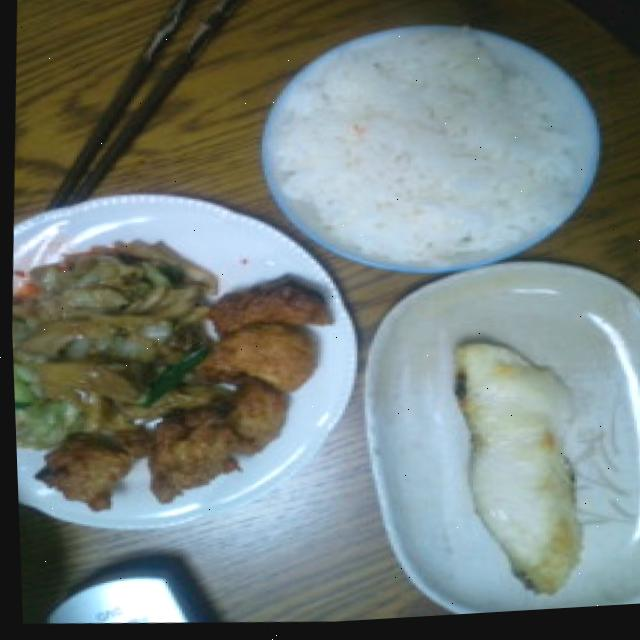米饭主食: (247, 20, 593, 289)
蔬菜料理: (7, 231, 212, 448)
鸡肉料理 含炸鸡: (25, 252, 334, 529)
